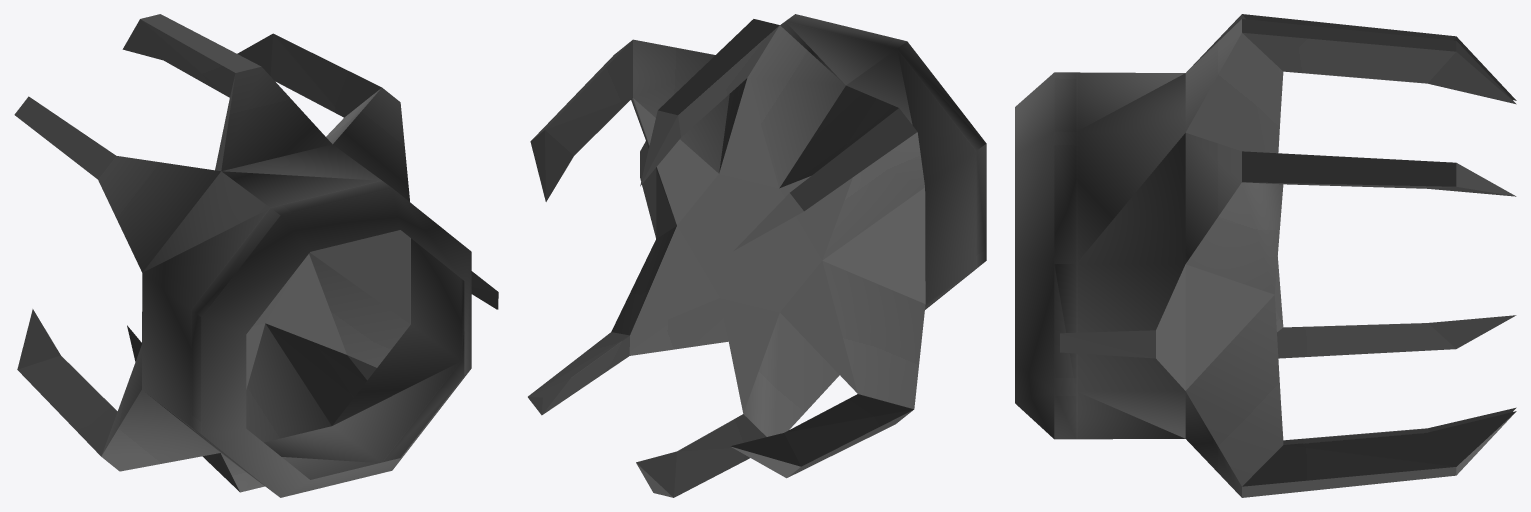
Rendered from stat_bottom3.glb.
3 views of the same model, side by side, from view 1: azimuth 30°, elevation 25°; view 2: azimuth 150°, elevation 25°; view 3: azimuth 270°, elevation 25° (orthographic). The views are drawn at different scales.
Parts seen in each view (by area): view 1: group_13; view 2: group_13; view 3: group_13.
Boxes of the visible parts, left/top/right/bottom form: group_13: left=14, top=14, right=498, bottom=497; group_13: left=528, top=14, right=986, bottom=497; group_13: left=1015, top=14, right=1516, bottom=497.
Bounding box in the file's own units: 11008 × 13952 × 13858.
Materials: 1 (1 with a texture image).
